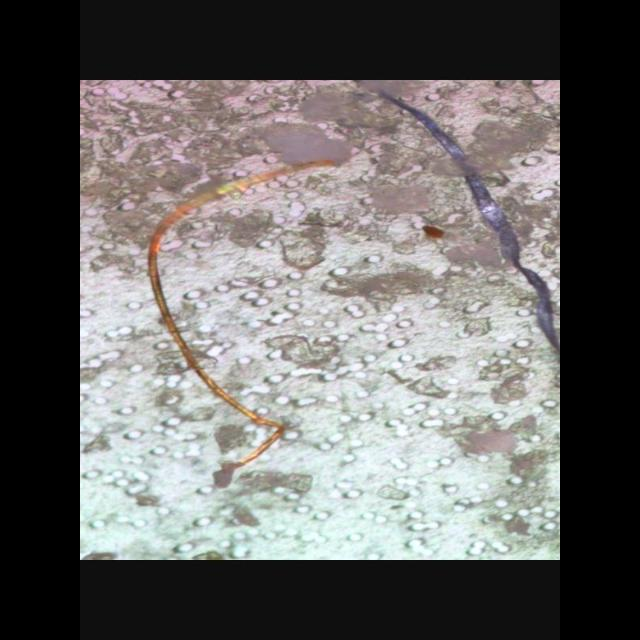Fibre: (146, 156, 340, 489), (350, 82, 560, 384)
